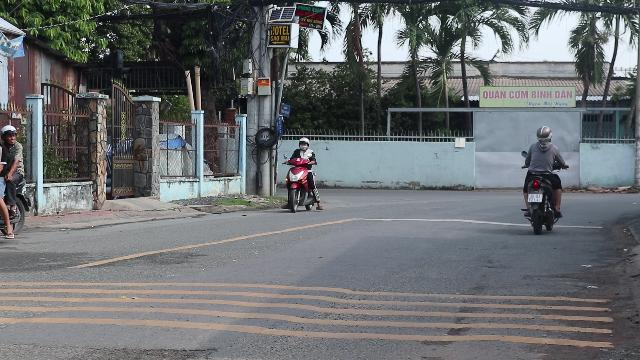helmet: (534, 126, 552, 142)
licenseplate: (528, 193, 542, 202)
motorcyclist: (518, 126, 566, 232)
